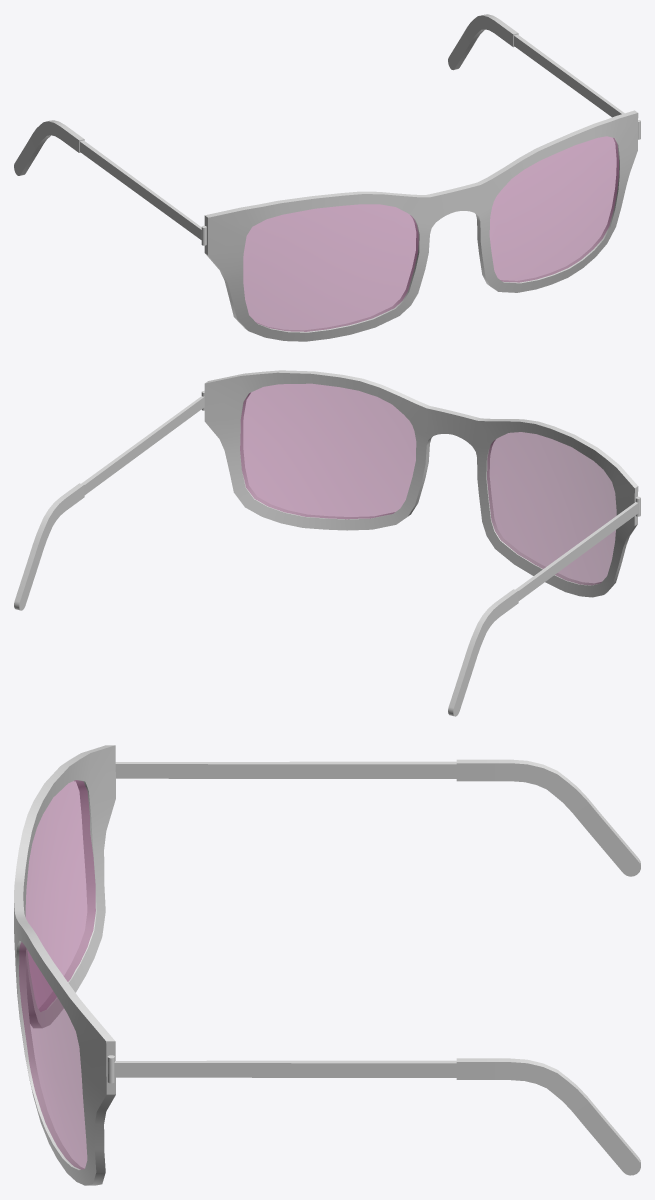
3 renders of one model, top to bottom at view 1: azimuth 30°, elevation 25°; view 2: azimuth 150°, elevation 25°; view 3: azimuth 270°, elevation 25°, orthographic. The views are drawn at different scales.
Visible parts, largest first — view 1: Lens, black; view 2: Lens, black; view 3: black, Lens.
Boxes of the visible parts, x1,y1,x2,y2 form: Lens: (243,136,618,331); black: (14,14,640,341); Lens: (240,383,616,585); black: (14,370,640,716); black: (14,745,640,1185); Lens: (19,780,95,1169).
Bounding box in the file's own units: 2.17 × 0.7027 × 1.9.
